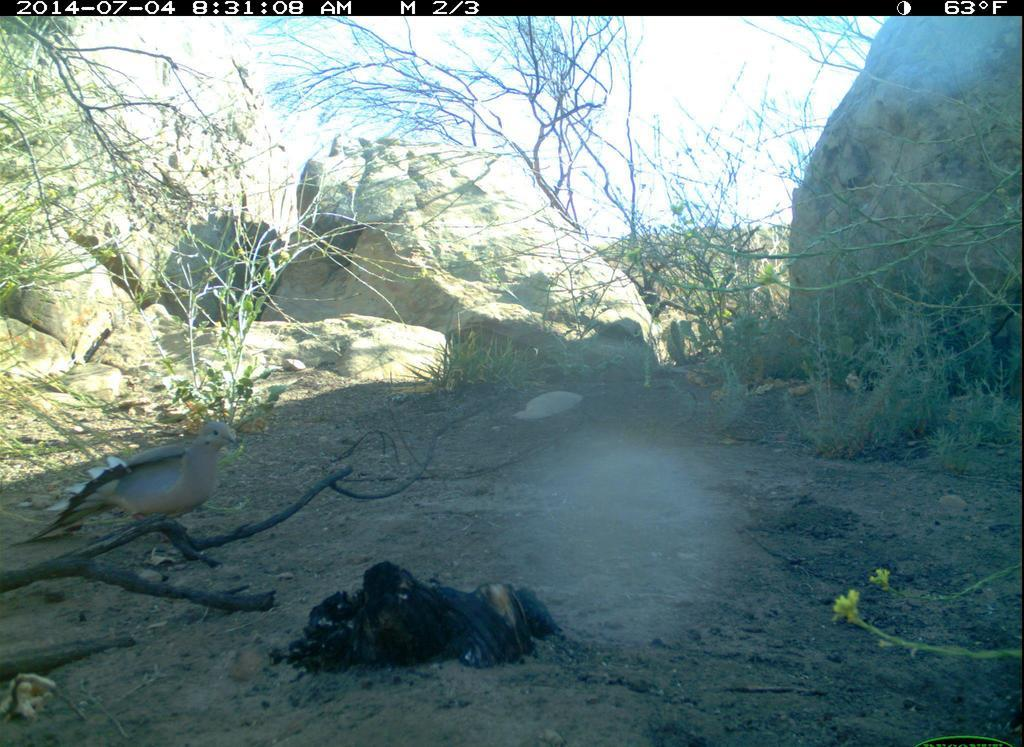bird: (21, 413, 253, 562)
